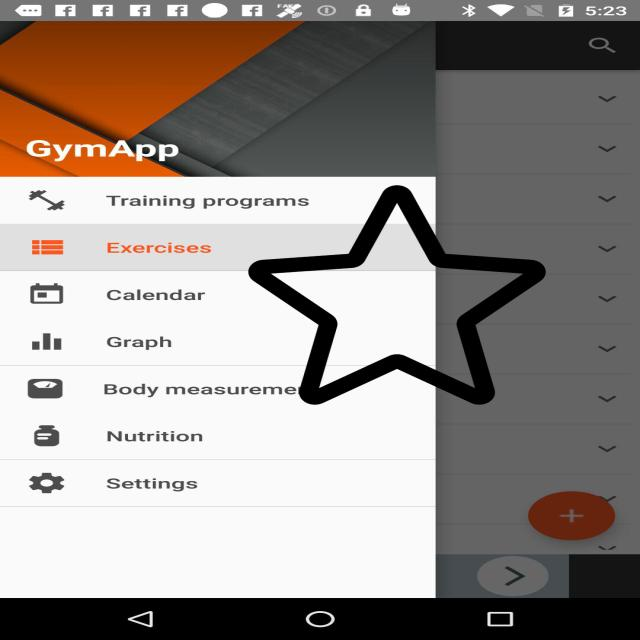forced continuity: (248, 180, 546, 410)
